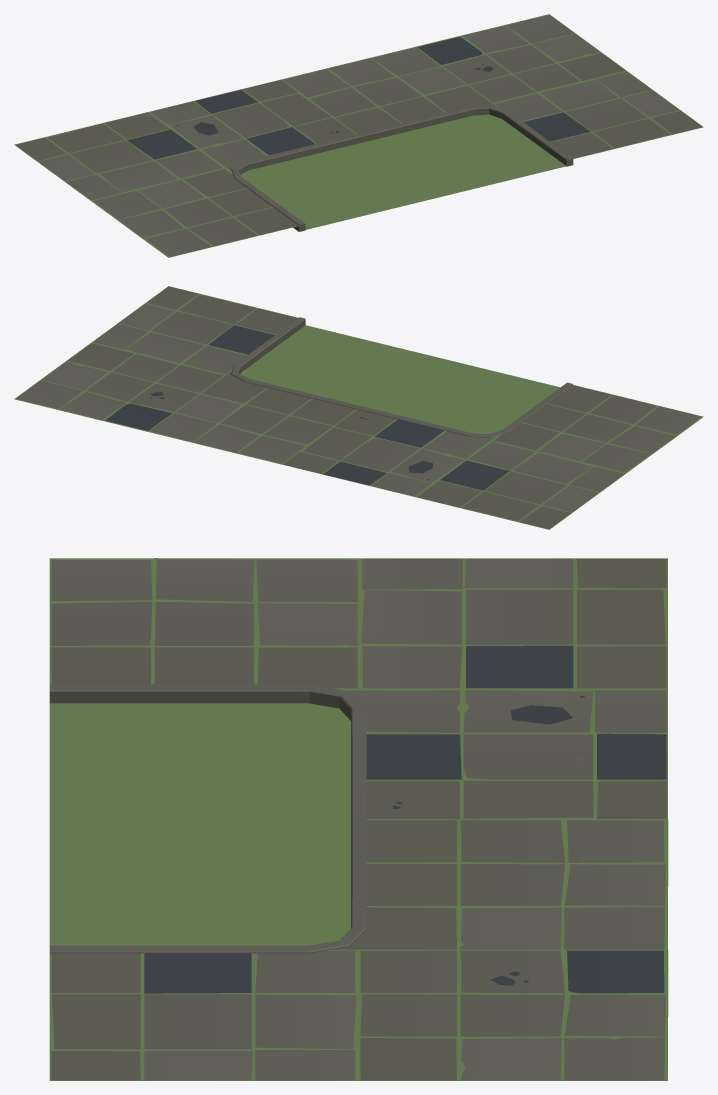
File: Road_20.fbx
The picture shows the model from 3 angles, top to bottom: view 1: azimuth 30°, elevation 25°; view 2: azimuth 150°, elevation 25°; view 3: azimuth 270°, elevation 25°; orthographic projection. The views are drawn at different scales.
Visible parts, largest first — view 1: Road_20; view 2: Road_20; view 3: Road_20.
Part boxes in pixels (x1,y1,x2,y2): Road_20: [14, 14, 703, 257]; Road_20: [14, 286, 703, 529]; Road_20: [49, 558, 668, 1080].
Bounding box in the file's own units: 12.01 × 0.15 × 6.01.
